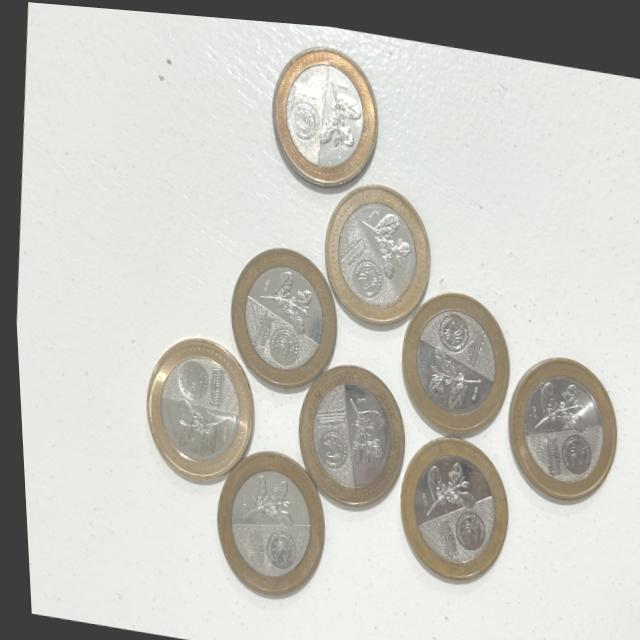20_New_Back: (337, 380, 396, 470), (415, 440, 478, 522), (416, 337, 481, 412), (251, 259, 311, 327), (165, 394, 223, 464), (353, 202, 413, 269), (232, 464, 292, 526), (526, 369, 583, 431), (315, 75, 364, 147)
